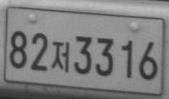1: (119, 40, 136, 79)
2: (30, 31, 49, 71)
3: (73, 35, 92, 74), (95, 37, 113, 76)
6: (138, 41, 158, 80)
8: (9, 29, 27, 69)
저: (49, 40, 70, 72)
